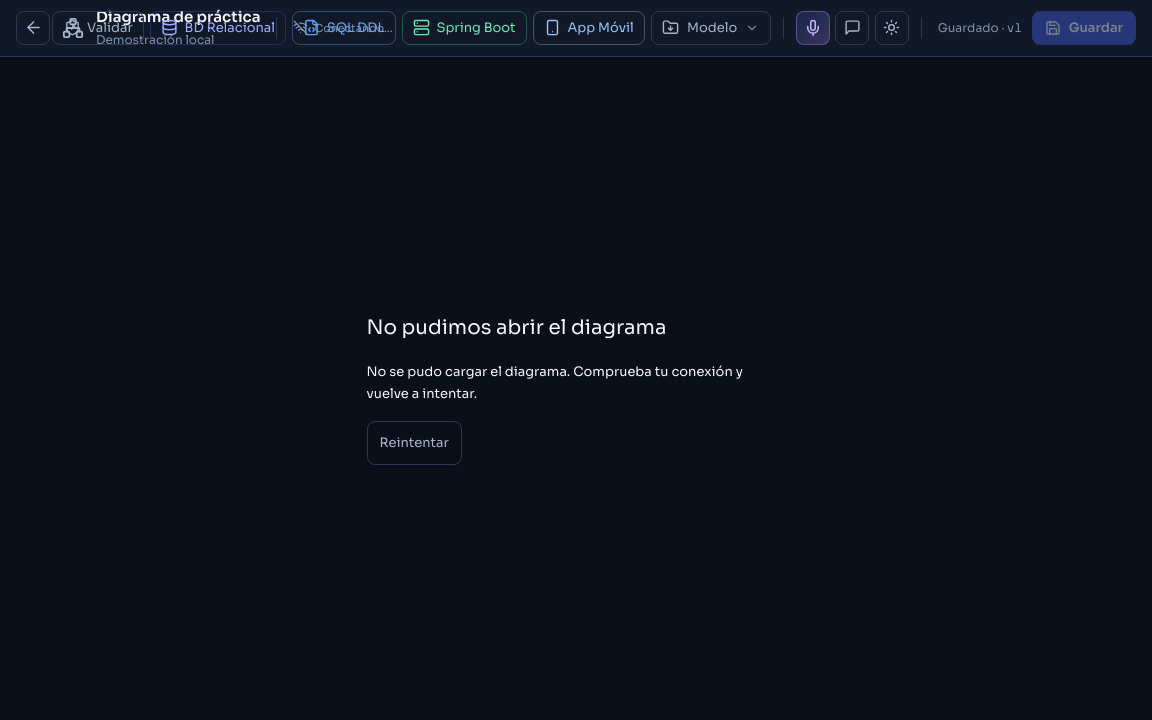
Test: un error de carga ofrece reintento sin habilitar un lienzo vacío editable
This screenshot has width=1152, height=720.
Expected: the message "No se pudo cargar el diagrama. Comprueba tu conexión y vuelve a intentar." is shown, [366,361,785,405]
Click the button "Reintentar".
click(414, 443)  # box [366,421,462,465]
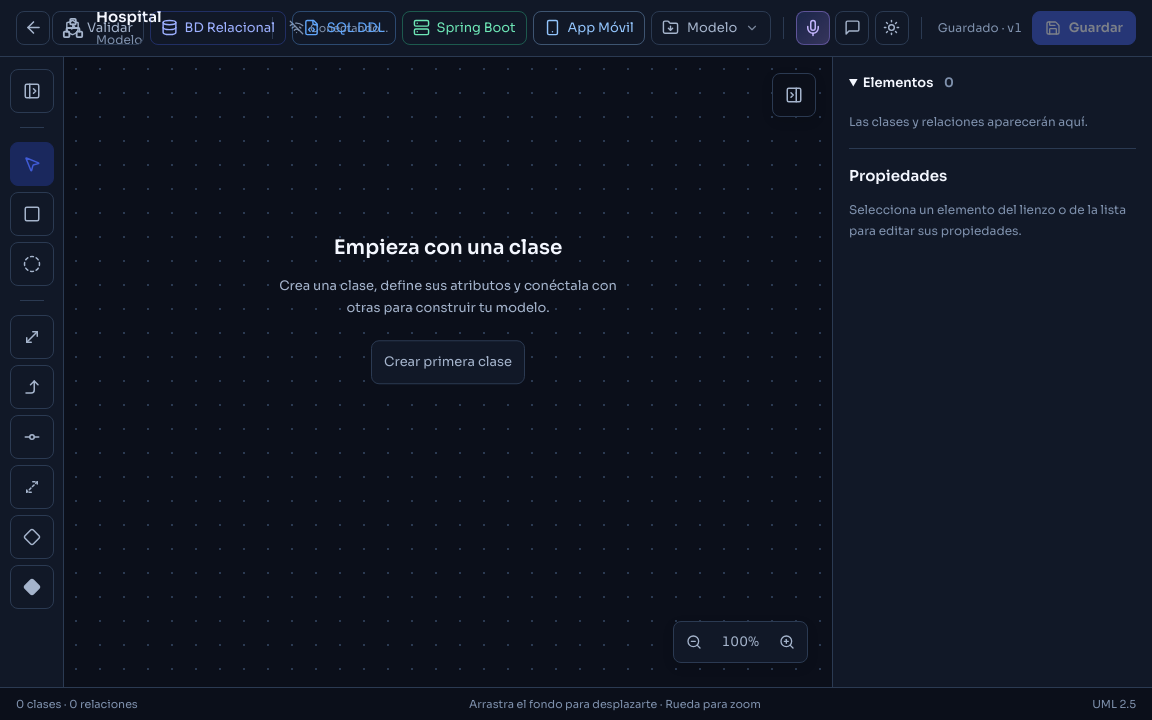
Result: the button named "Nueva Clase" is enabled at [10,192,54,236]
